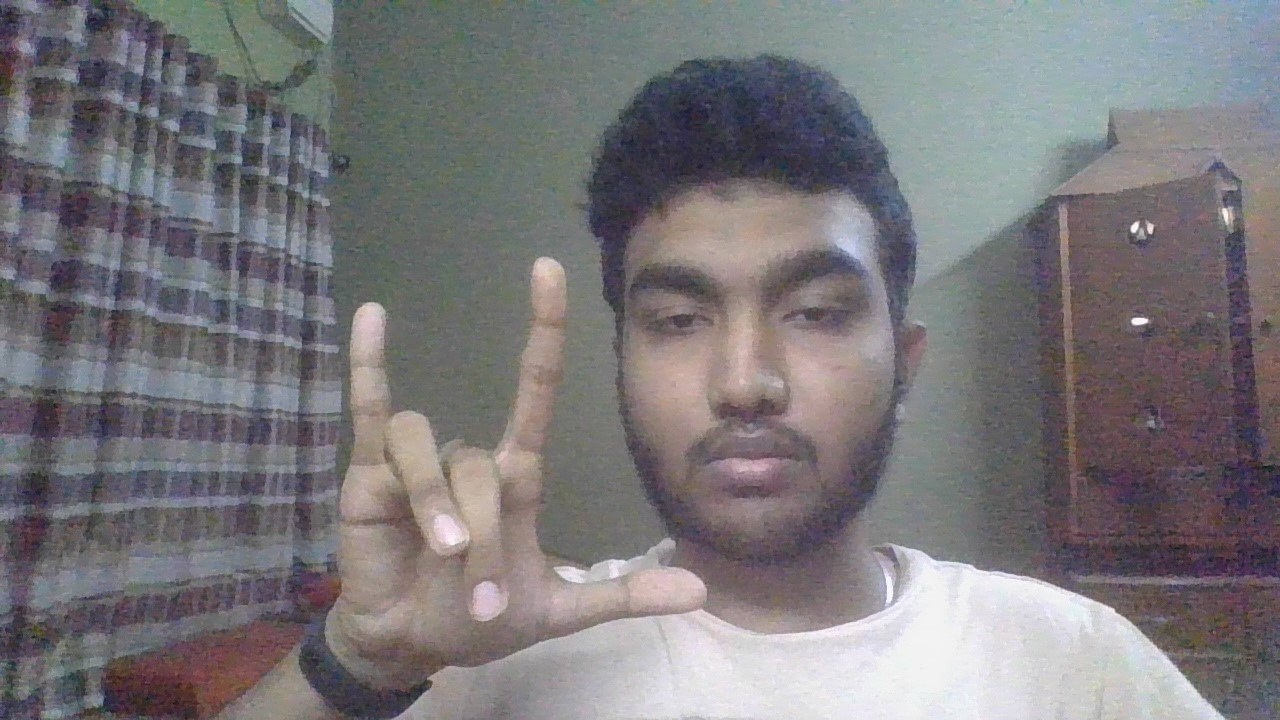I Love You: (303, 244, 715, 669)
